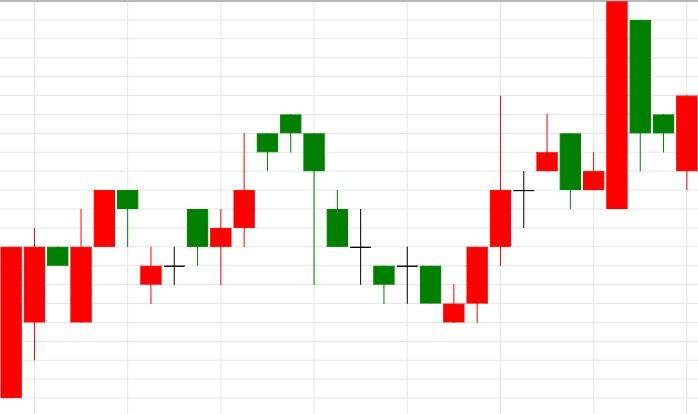three_white_soldiers_rise: (280, 95, 511, 322)
